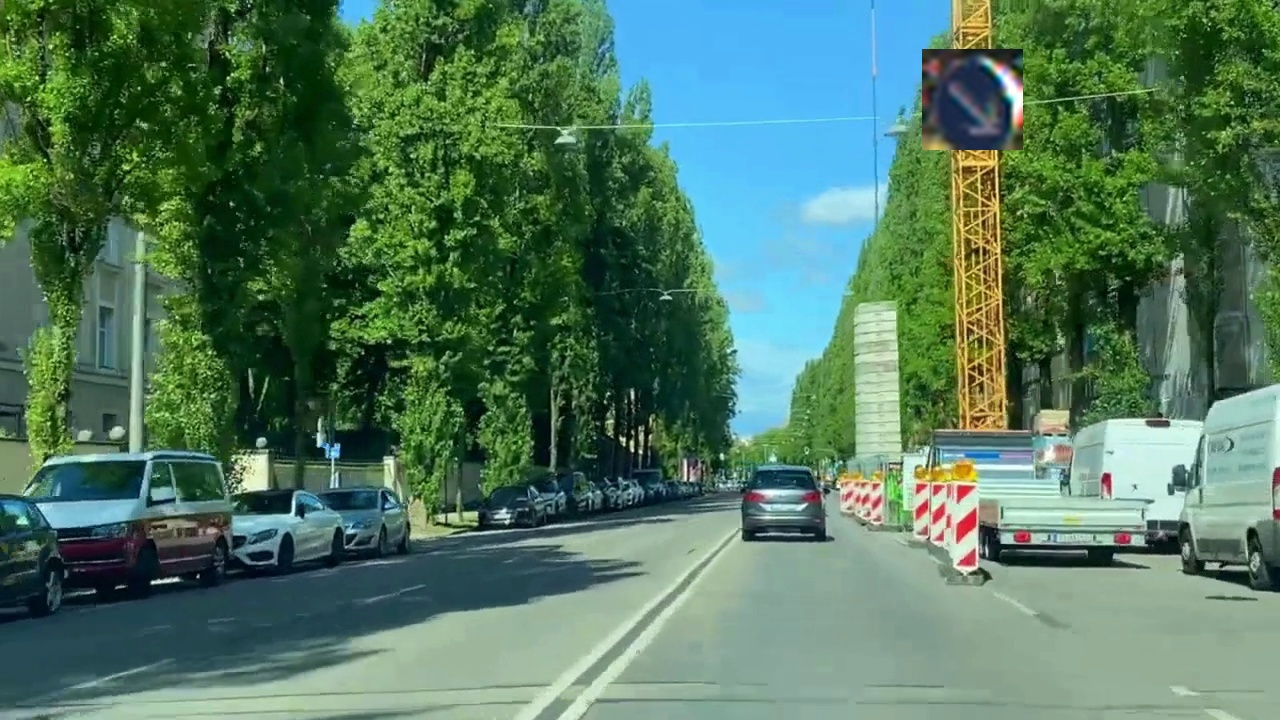Keep right: (922, 49, 1023, 150)
